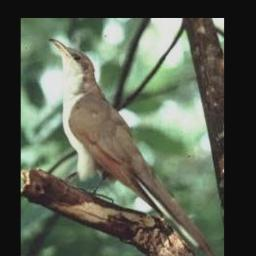Cuckoo: (49, 39, 218, 256)
